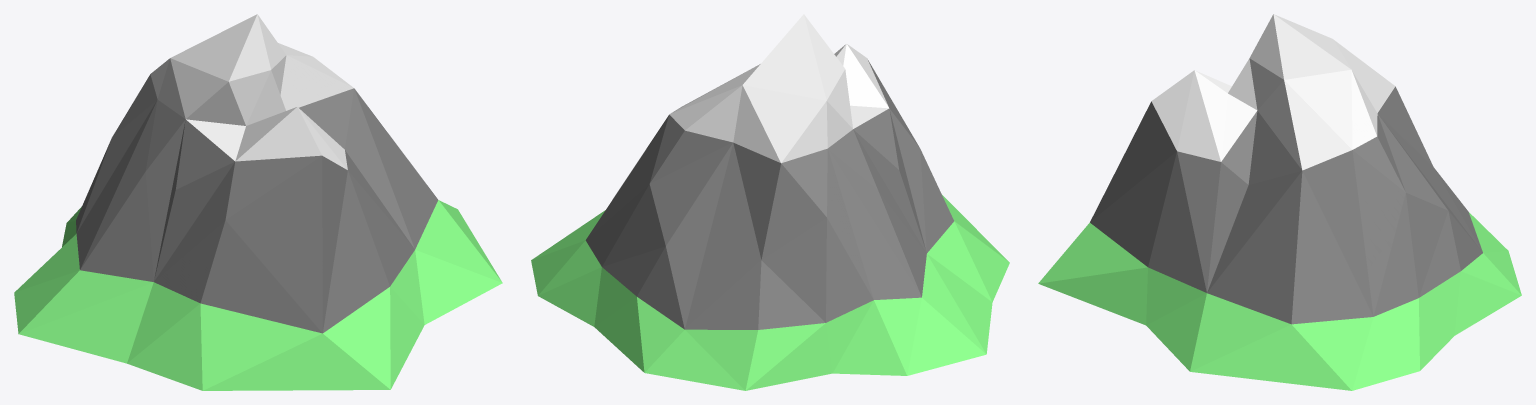
The model's file is low_poly_terrain_2.glb.
The picture shows the model from 3 angles, left to right: view 1: azimuth 30°, elevation 25°; view 2: azimuth 150°, elevation 25°; view 3: azimuth 270°, elevation 25°; orthographic projection. The views are drawn at different scales.
Parts seen in each view (by area): view 1: Object_2, Object_3, Object_4; view 2: Object_2, Object_3, Object_4; view 3: Object_2, Object_3, Object_4.
Boxes of the visible parts, left/top/right/bottom form: Object_2: left=76, top=74, right=437, bottom=333; Object_3: left=14, top=200, right=502, bottom=390; Object_4: left=150, top=14, right=353, bottom=169; Object_2: left=585, top=60, right=953, bottom=329; Object_3: left=531, top=195, right=1009, bottom=390; Object_4: left=669, top=14, right=889, bottom=163; Object_2: left=1090, top=86, right=1482, bottom=324; Object_3: left=1038, top=212, right=1521, bottom=390; Object_4: left=1151, top=14, right=1395, bottom=170.
Bounding box in the file's own units: 82.98 × 49.47 × 81.42.
